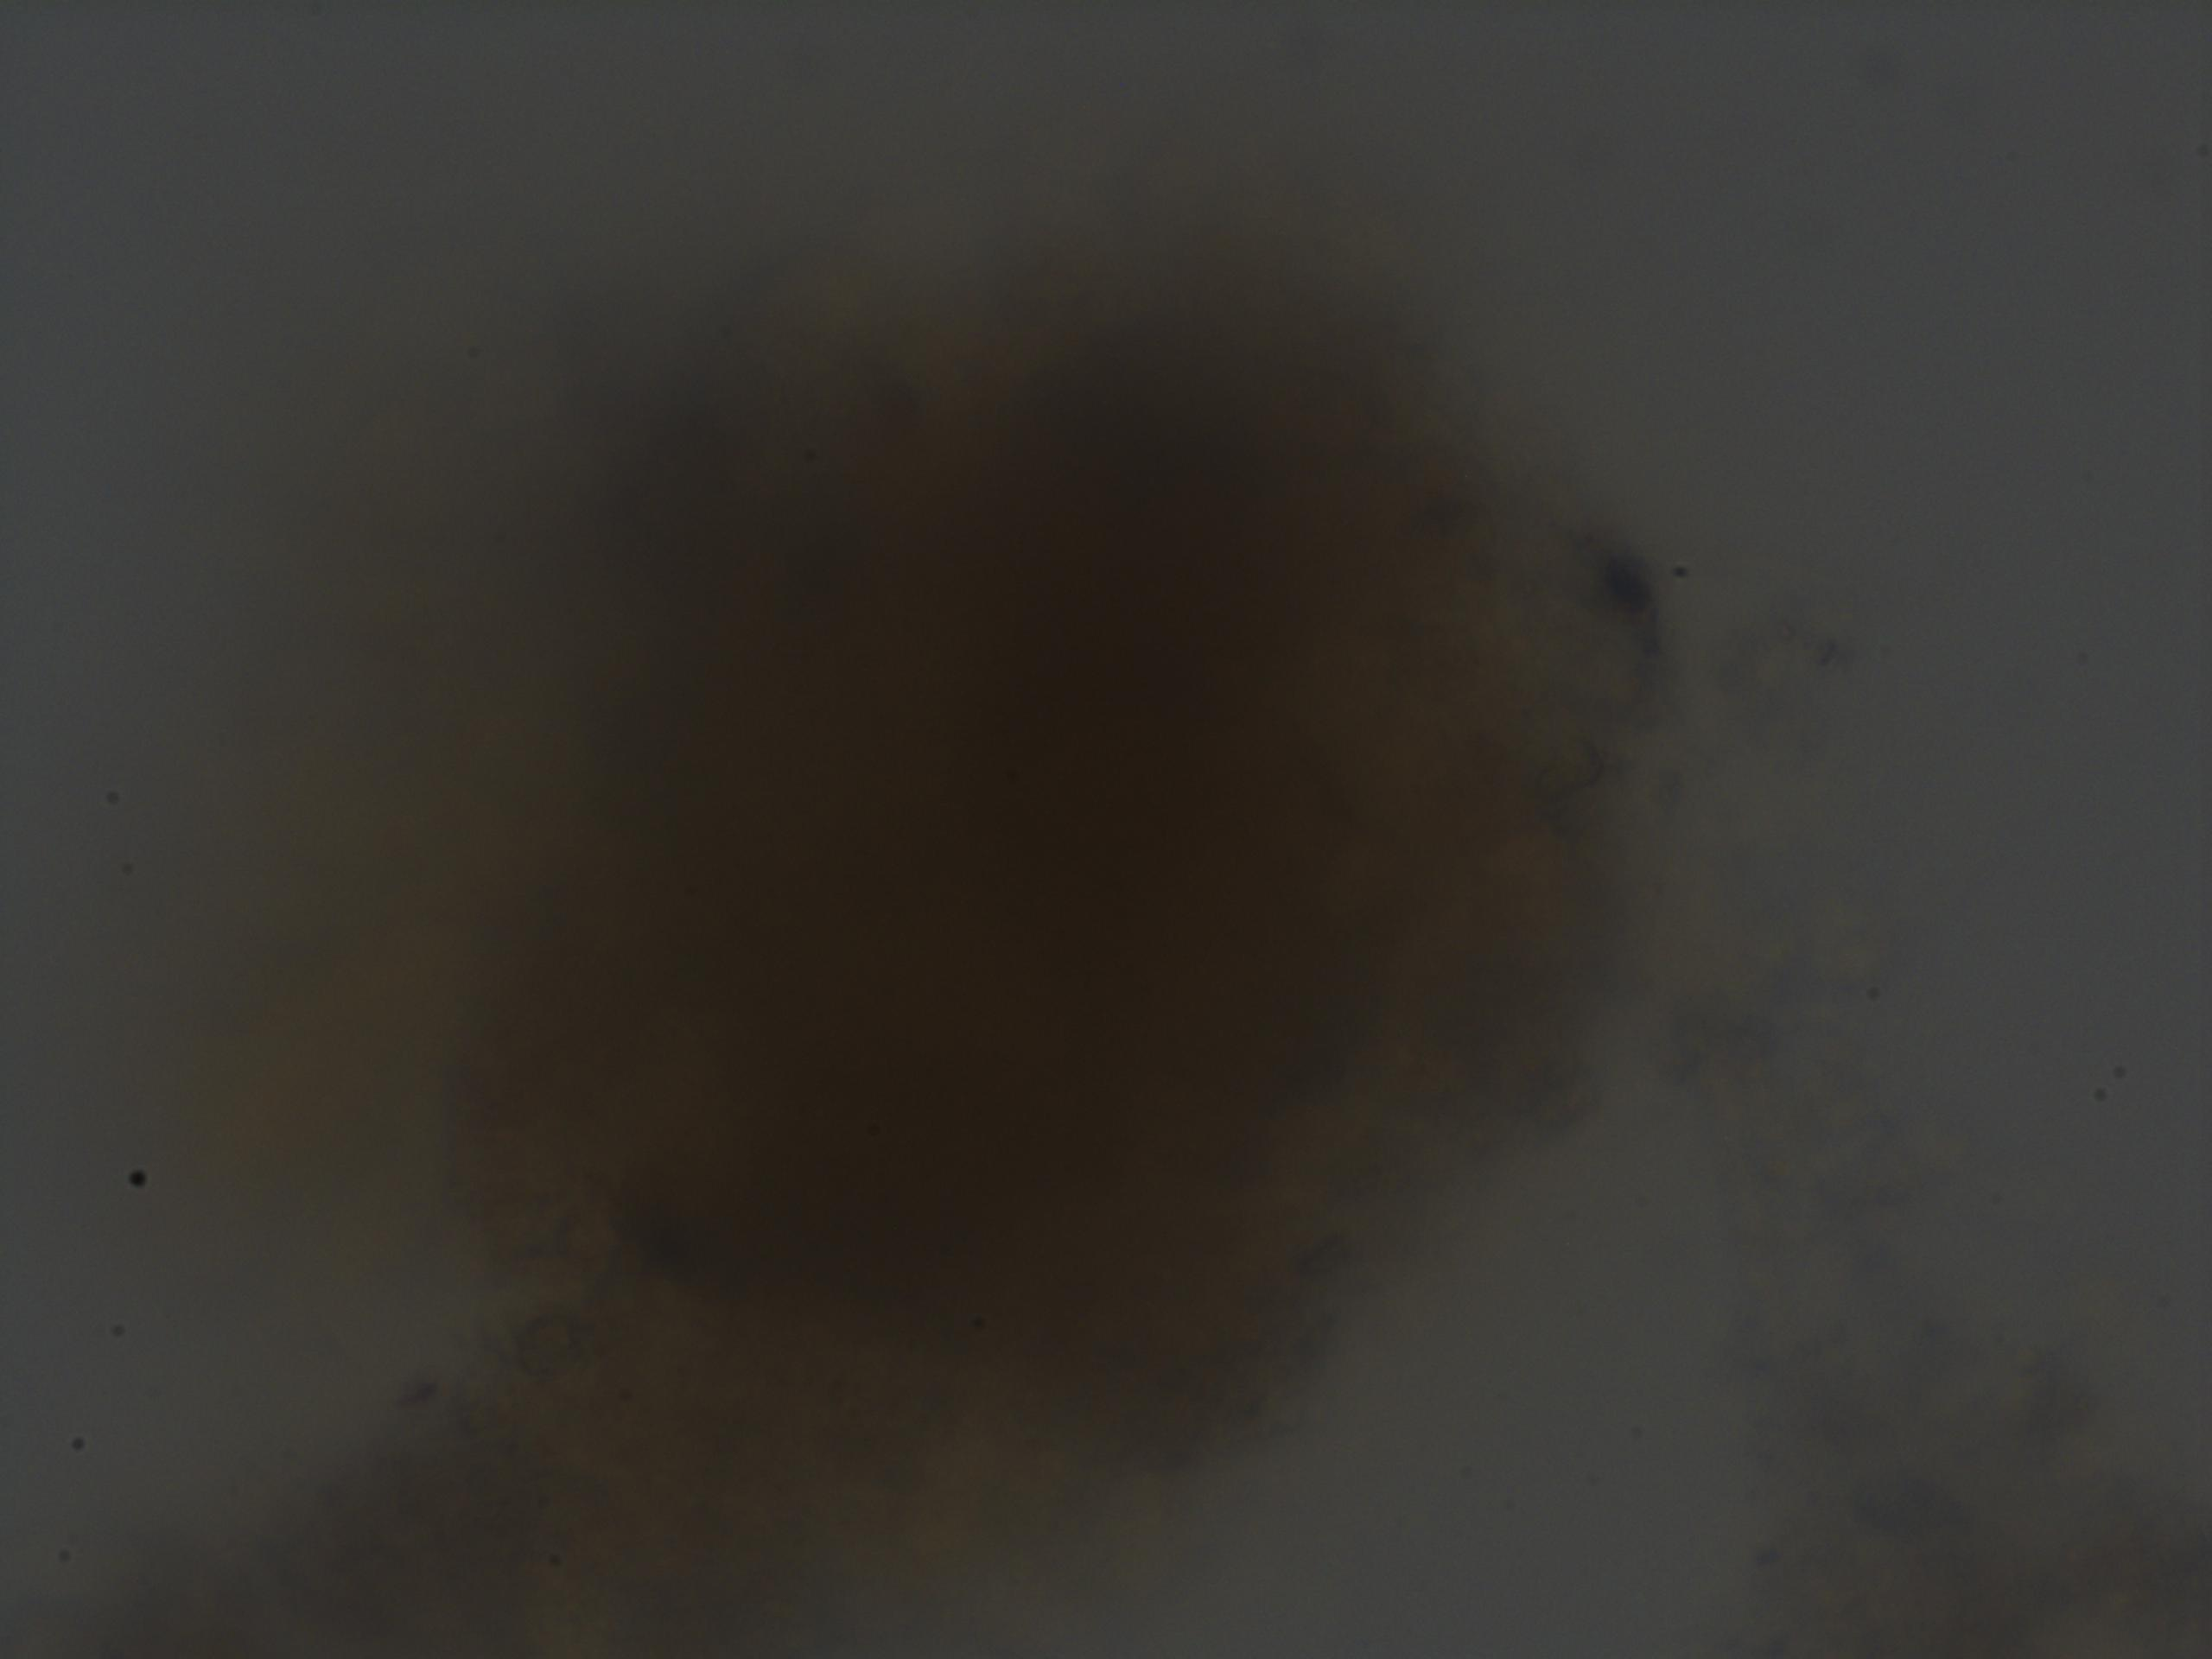spherical_floc: (472, 220, 1683, 1466)
